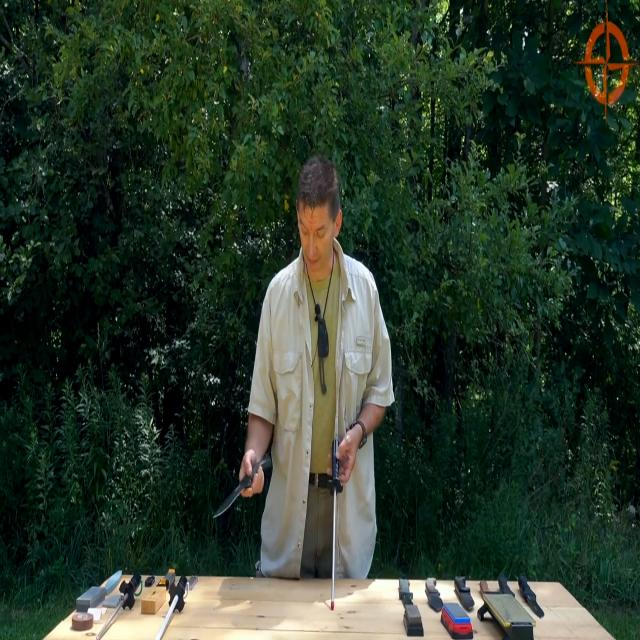knife: (215, 451, 276, 527), (516, 571, 546, 623), (425, 572, 446, 617), (455, 572, 475, 615)
